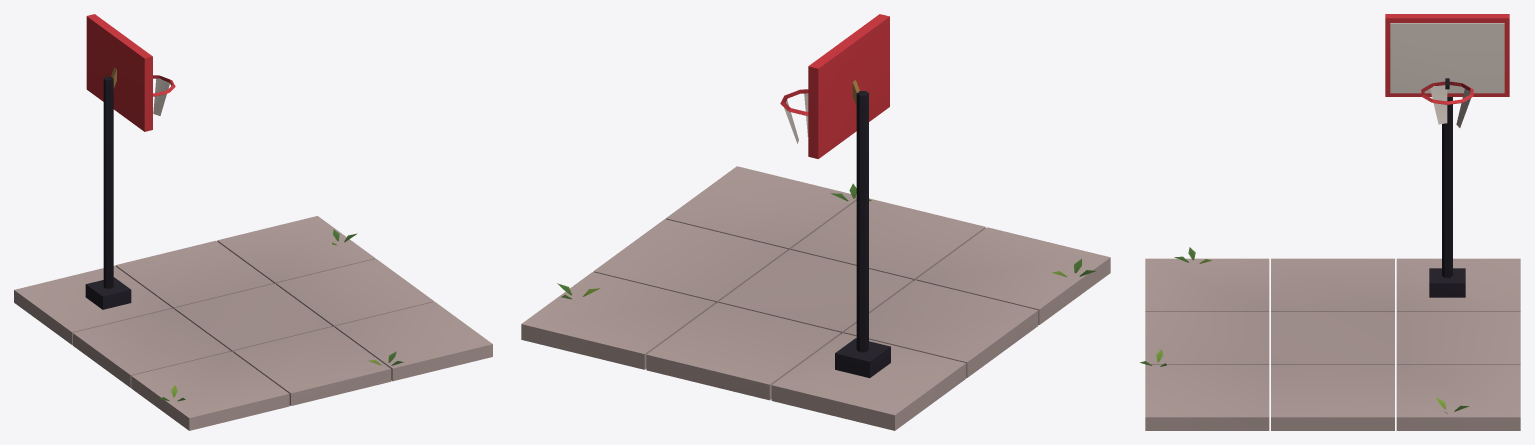
The picture shows the model from 3 angles, left to right: view 1: azimuth 30°, elevation 25°; view 2: azimuth 150°, elevation 25°; view 3: azimuth 270°, elevation 25°; orthographic projection. The views are drawn at different scales.
Visible parts, largest first — view 1: root_pal_sidewalk, root_pal_survivorRed, root_pal_uiDark; view 2: root_pal_sidewalk, root_pal_survivorRed, root_pal_uiDark; view 3: root_pal_sidewalk, root_pal_picketWhite, root_pal_uiDark, root_pal_survivorRed.
Part boxes in pixels (x1,y1,x2,y2): root_pal_sidewalk: (14,216,492,430); root_pal_survivorRed: (86,14,175,131); root_pal_uiDark: (85,76,131,309); root_pal_sidewalk: (521,166,1110,430); root_pal_survivorRed: (780,14,889,158); root_pal_uiDark: (835,91,890,378); root_pal_sidewalk: (1145,258,1520,430); root_pal_picketWhite: (1390,23,1504,127); root_pal_uiDark: (1429,78,1465,297); root_pal_survivorRed: (1385,14,1509,104).
Bounding box in the file's own units: 3.13 × 2.58 × 3.03.
